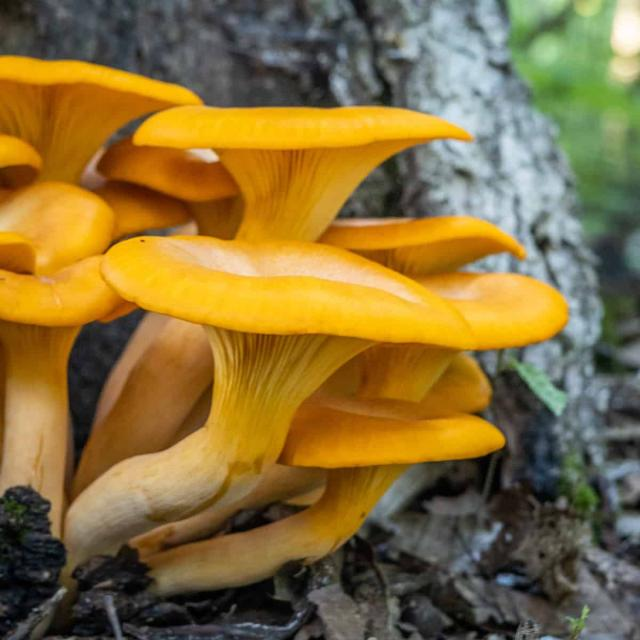chanterelle: (0, 60, 570, 593)
